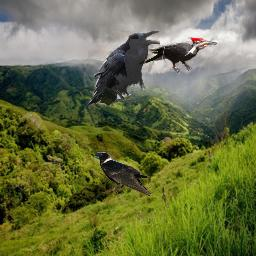Crow: (84, 31, 160, 110), (94, 151, 151, 196)
Woodpecker: (139, 37, 217, 75)
